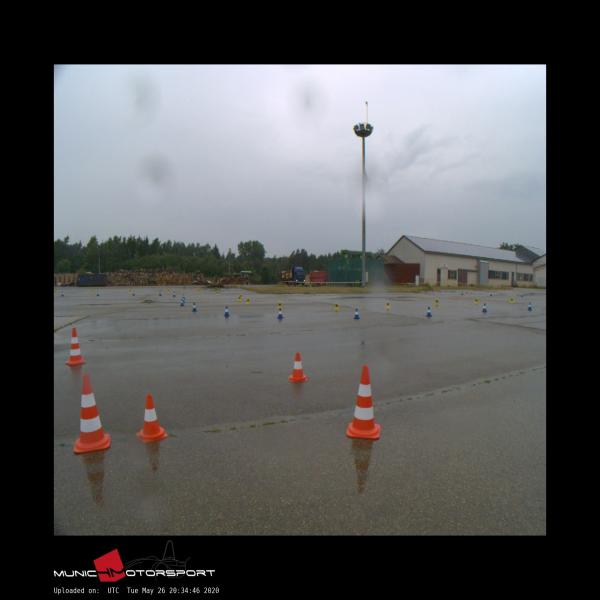blue_cone: (277, 308, 284, 318), (353, 308, 360, 318), (224, 306, 230, 316), (192, 302, 198, 311), (426, 306, 432, 315), (482, 303, 487, 312), (527, 302, 532, 310), (180, 299, 184, 306)
large_orange_cone: (74, 372, 110, 452), (346, 364, 380, 439), (64, 327, 86, 364)
orange_cone: (136, 394, 168, 444), (288, 352, 307, 381)
yellow_cone: (334, 302, 339, 310), (278, 300, 282, 309), (246, 297, 251, 304), (386, 300, 390, 308), (510, 297, 514, 303), (238, 295, 242, 301), (475, 297, 478, 304), (435, 298, 438, 305)
